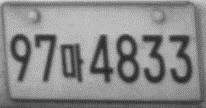3: (168, 34, 193, 83), (142, 33, 165, 83)
4: (88, 33, 114, 82)
7: (34, 33, 56, 81)
8: (116, 33, 140, 83)
9: (8, 33, 31, 82)
마: (60, 43, 84, 82)
